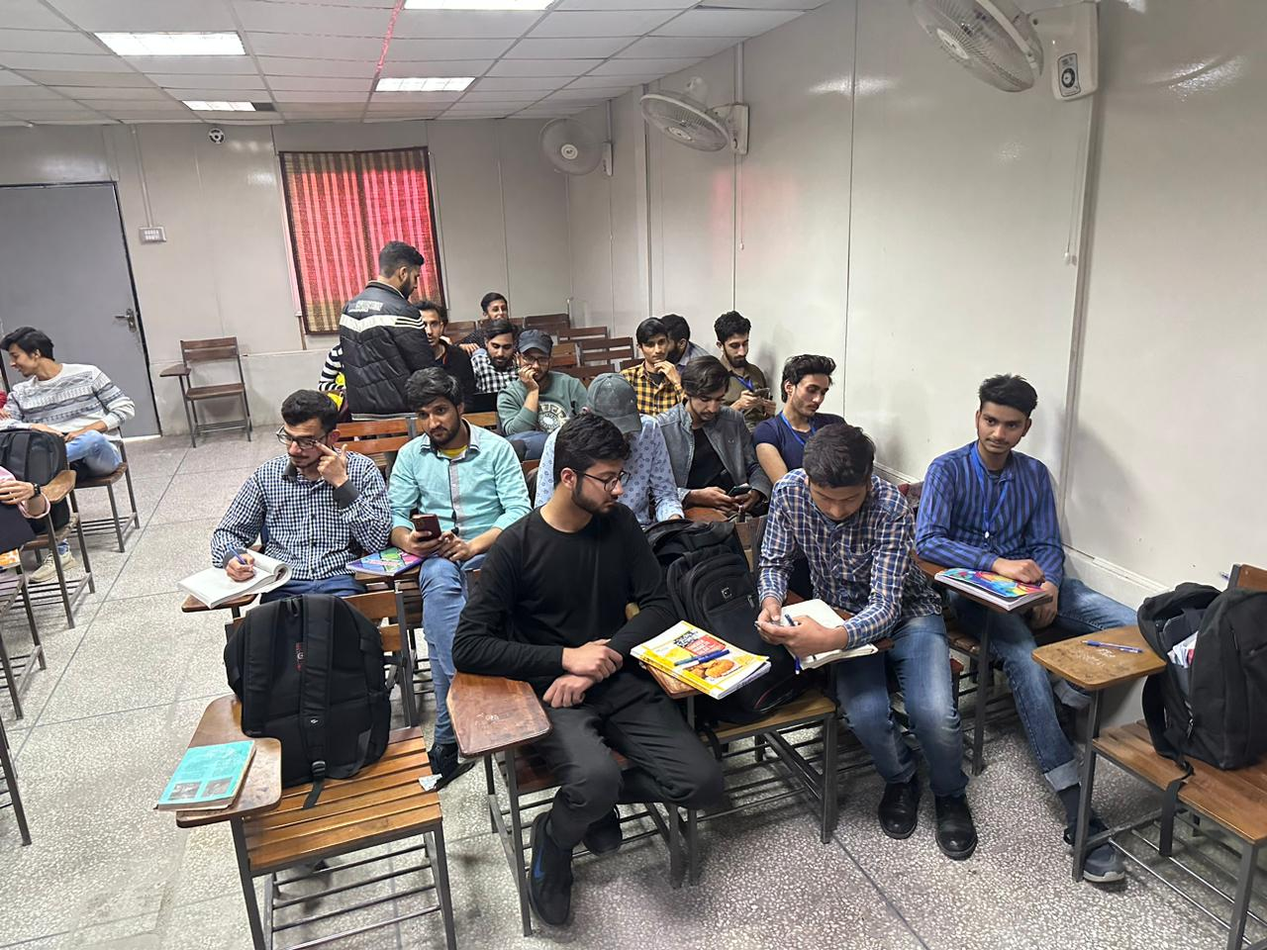non-cheating: (797, 417, 880, 529), (964, 370, 1043, 465), (272, 388, 347, 479), (399, 365, 469, 451), (679, 351, 733, 428), (780, 350, 838, 419), (512, 327, 555, 388), (709, 309, 754, 364), (632, 315, 673, 369), (481, 316, 519, 374), (416, 297, 444, 349), (475, 289, 512, 326)
phone: (746, 591, 845, 667), (394, 502, 484, 569), (691, 477, 762, 514), (732, 380, 780, 419)
